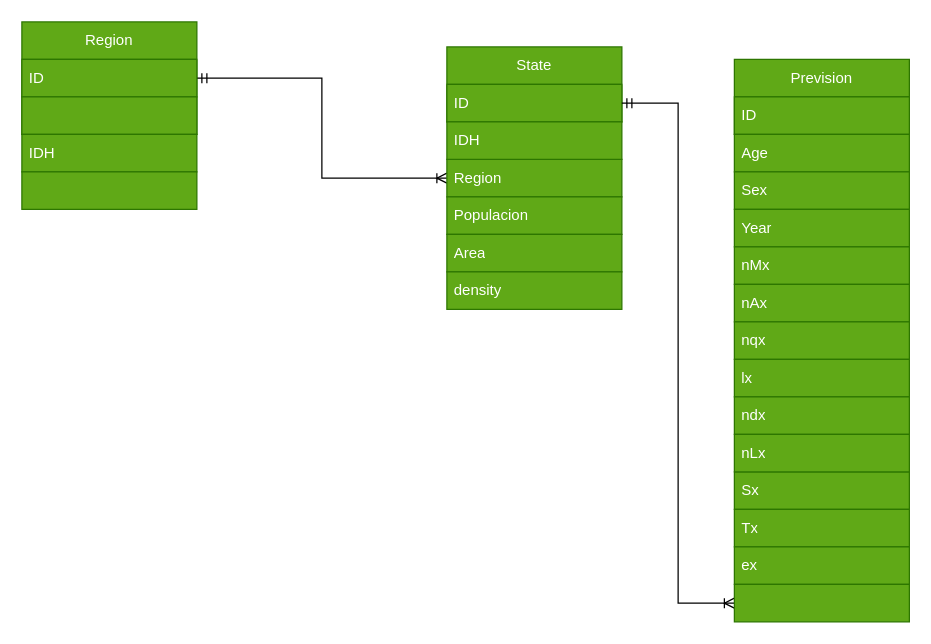
Image size: 931x644. Some labels were removed from this diagram. The centre of each missing label's shape, as x and y in pixels:
"Name" belongs at (x=109, y=115).
"S tate" belongs at (x=821, y=602).
